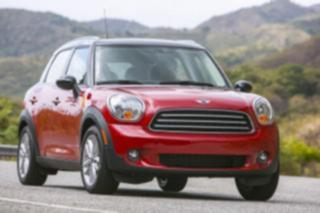mini: (189, 92, 216, 109)
